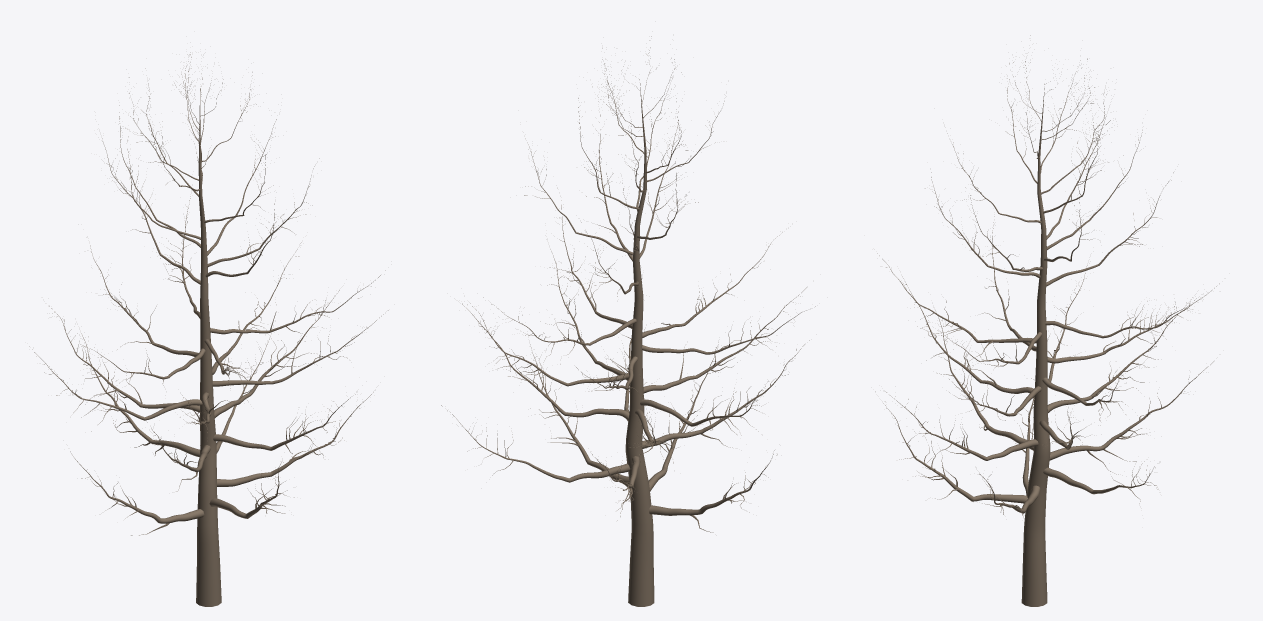
The picture shows the model from 3 angles, left to right: view 1: azimuth 30°, elevation 25°; view 2: azimuth 150°, elevation 25°; view 3: azimuth 270°, elevation 25°; orthographic projection. The views are drawn at different scales.
Parts seen in each view (by area): view 1: Simple Tree.003; view 2: Simple Tree.003; view 3: Simple Tree.003.
Boxes of the visible parts, box(x1,y1,x2,y2) form: Simple Tree.003: box(29, 52, 388, 606); Simple Tree.003: box(441, 36, 815, 606); Simple Tree.003: box(875, 35, 1219, 606).
Bounding box in the file's own units: 16.59 × 27.67 × 16.97.
